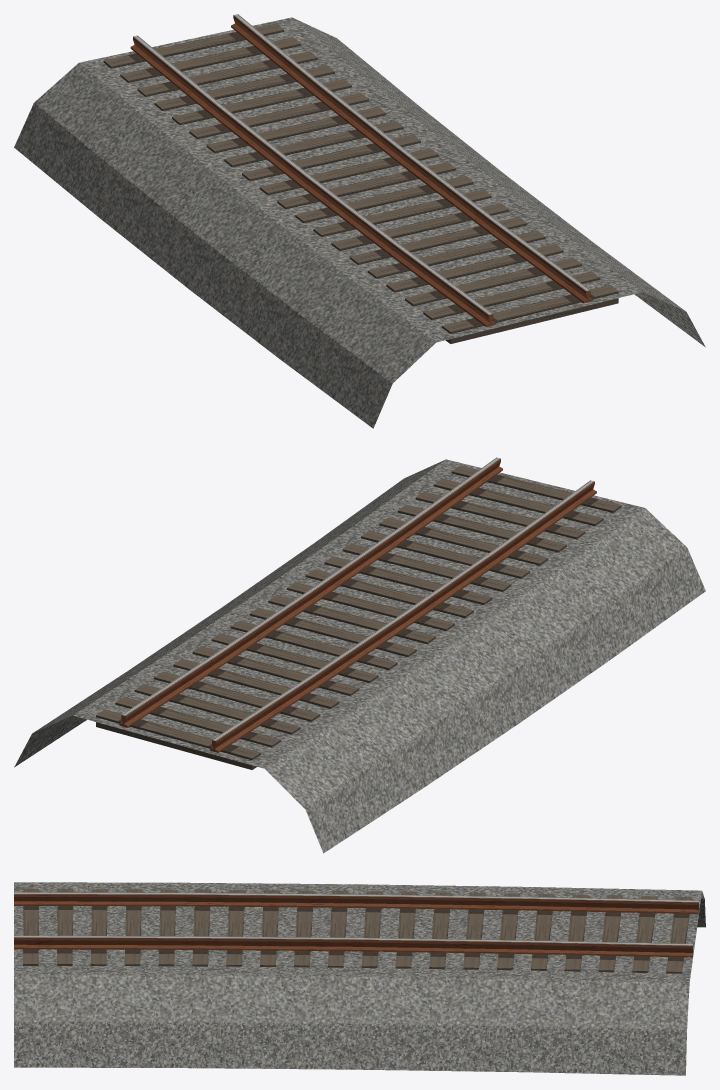
The model's file is rail_track_curve_r175_10m_r_v2.glb.
3 renders of one model, top to bottom at view 1: azimuth 30°, elevation 25°; view 2: azimuth 150°, elevation 25°; view 3: azimuth 270°, elevation 25°, orthographic. The views are drawn at different scales.
Parts seen in each view (by area): view 1: rail_track_curve_r175_10m_r_v2; view 2: rail_track_curve_r175_10m_r_v2; view 3: rail_track_curve_r175_10m_r_v2.
Part boxes in pixels (x1,y1,x2,y2): rail_track_curve_r175_10m_r_v2: (14,14,705,428); rail_track_curve_r175_10m_r_v2: (14,457,705,853); rail_track_curve_r175_10m_r_v2: (14,882,705,1075).
Size of what is drawn, in the model's own units: 5.43 by 1.27 by 10.14.
Materials: 2 (2 with a texture image).
